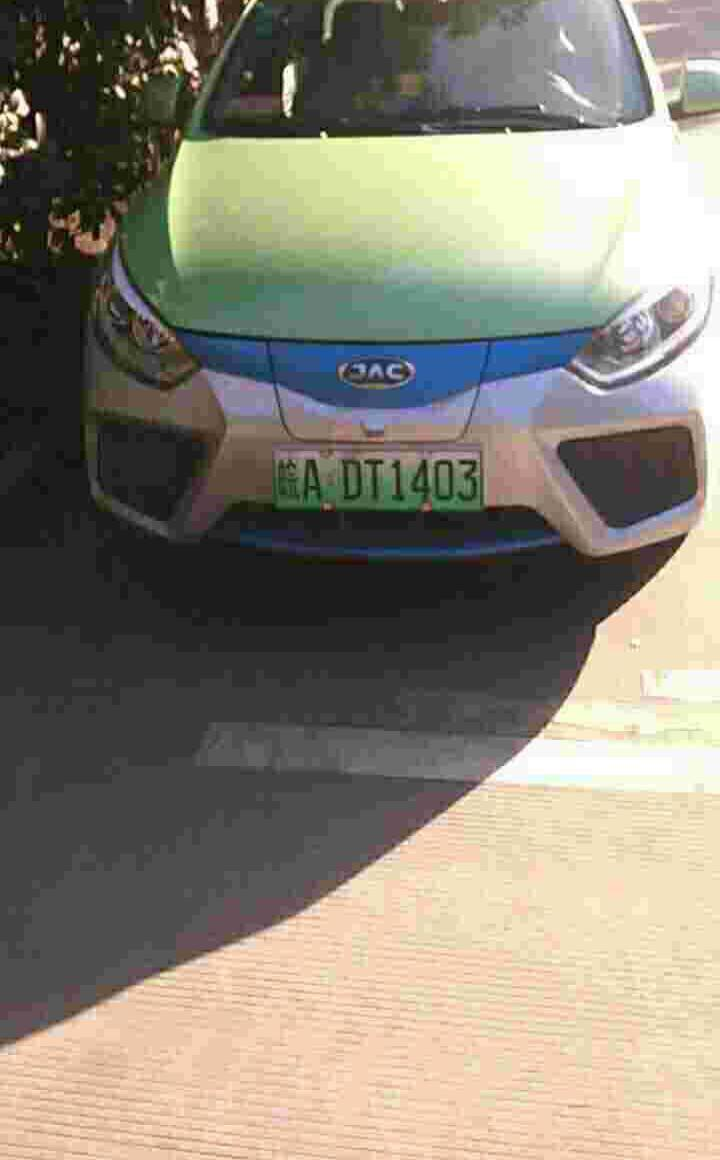car: (268, 441, 491, 521)
